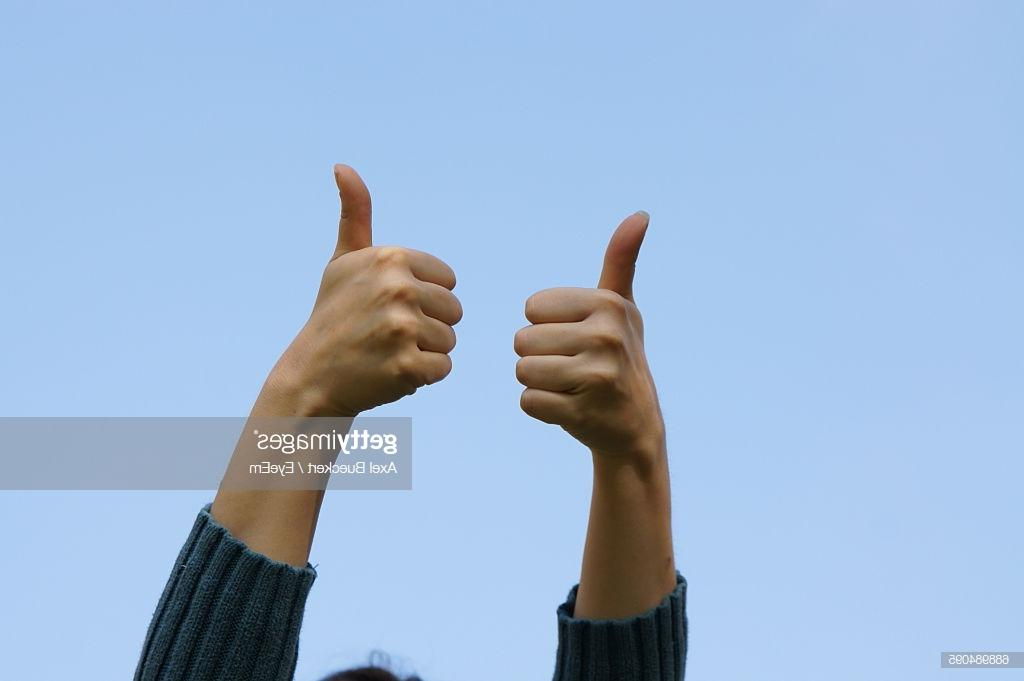thumbsup: (328, 163, 463, 391), (513, 209, 651, 423)
